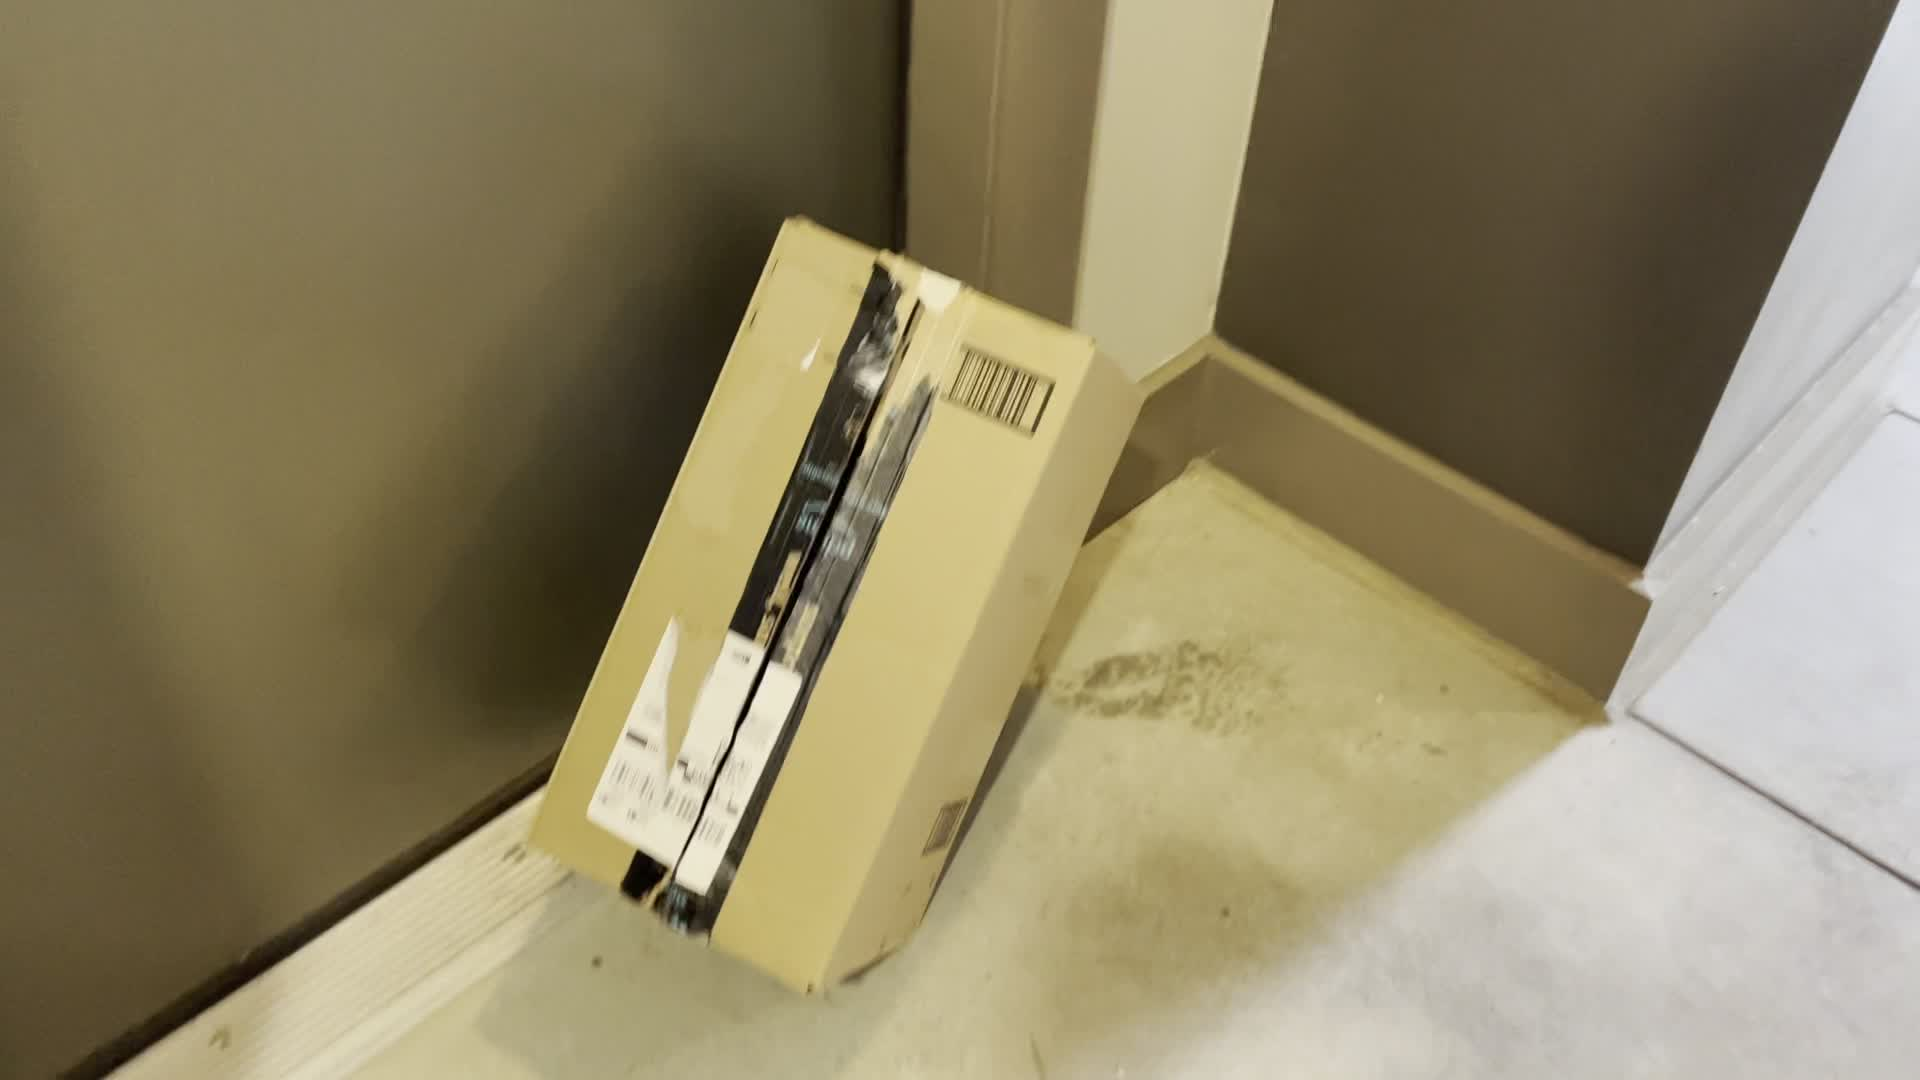box: (549, 196, 1135, 1015)
